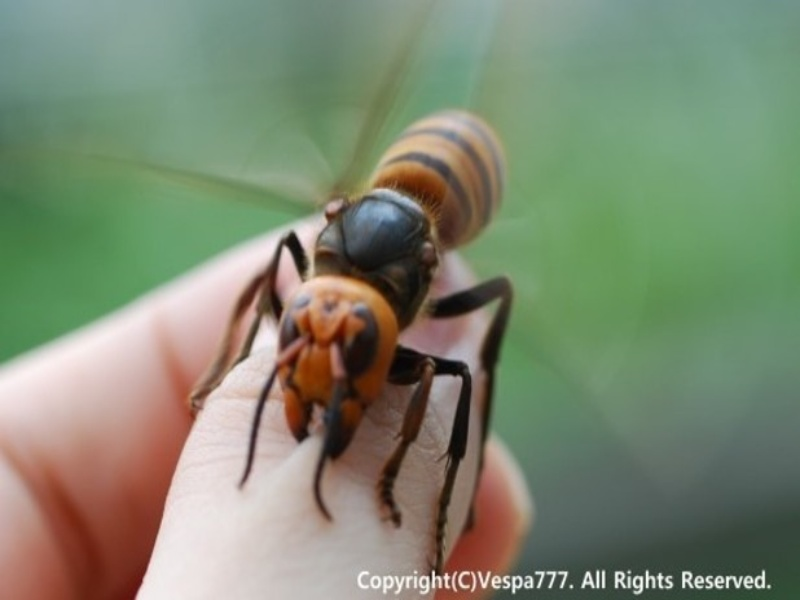asian_giant_hornet: (190, 105, 515, 495)
